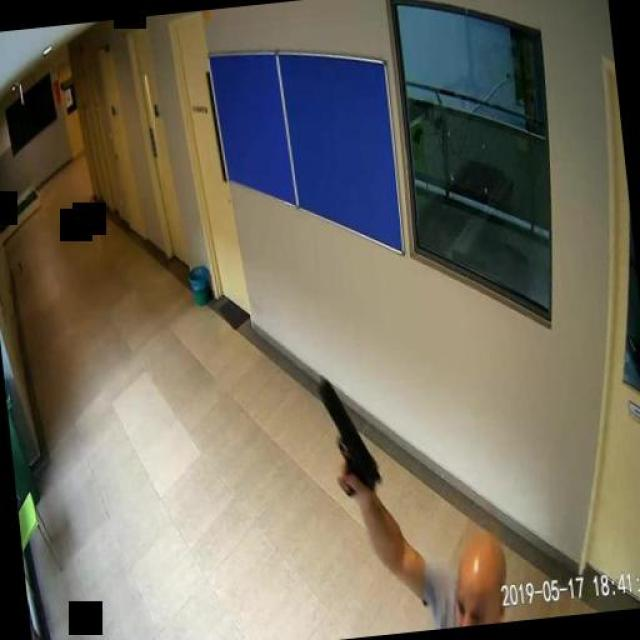gun: (318, 371, 382, 500)
